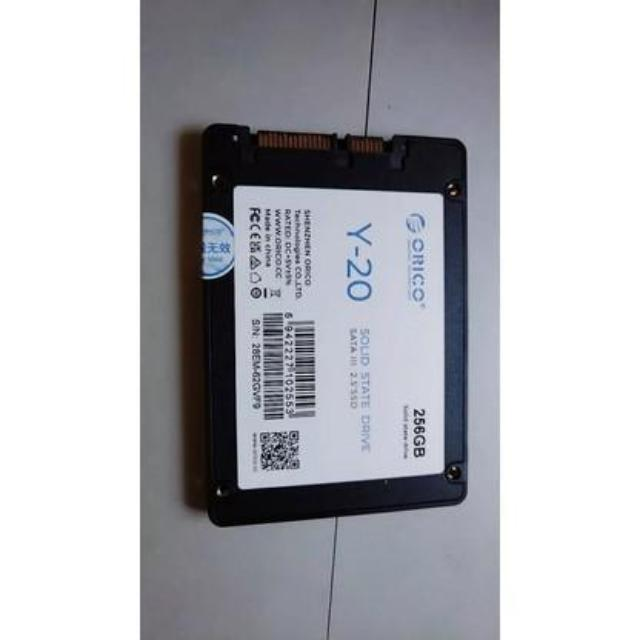DISK: (188, 119, 472, 524)
